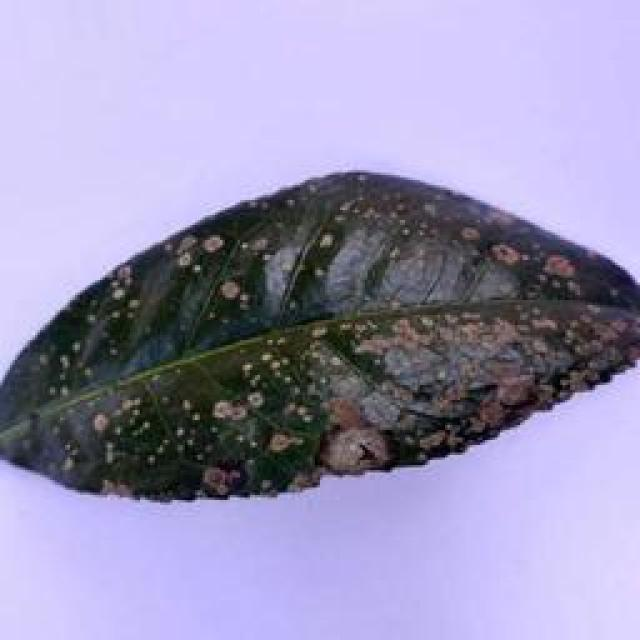Algal Leaf Spot: (2, 162, 640, 510)
